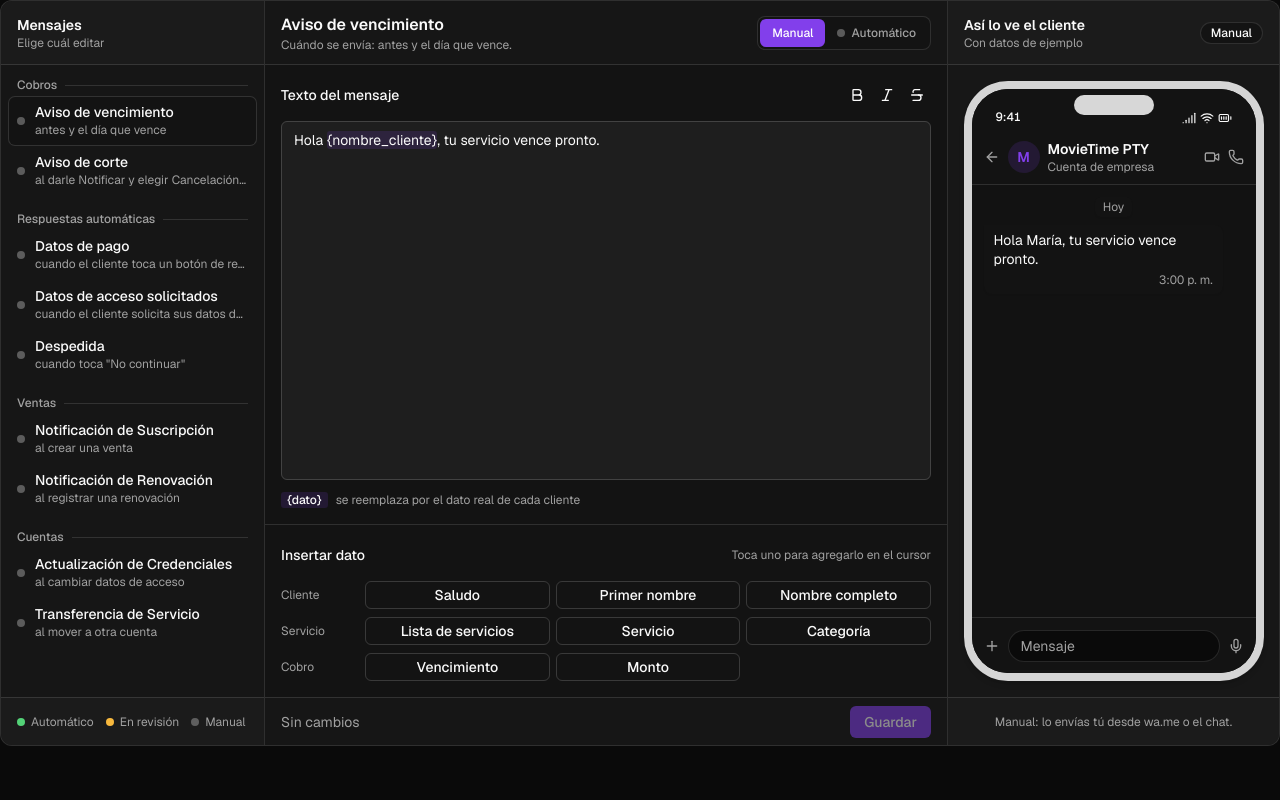
it: TemplateEditor › requires a data choice for a single variable and clears the link when removed
Click the button "Automático". click: (877, 32)
box: [826,18,928,46]
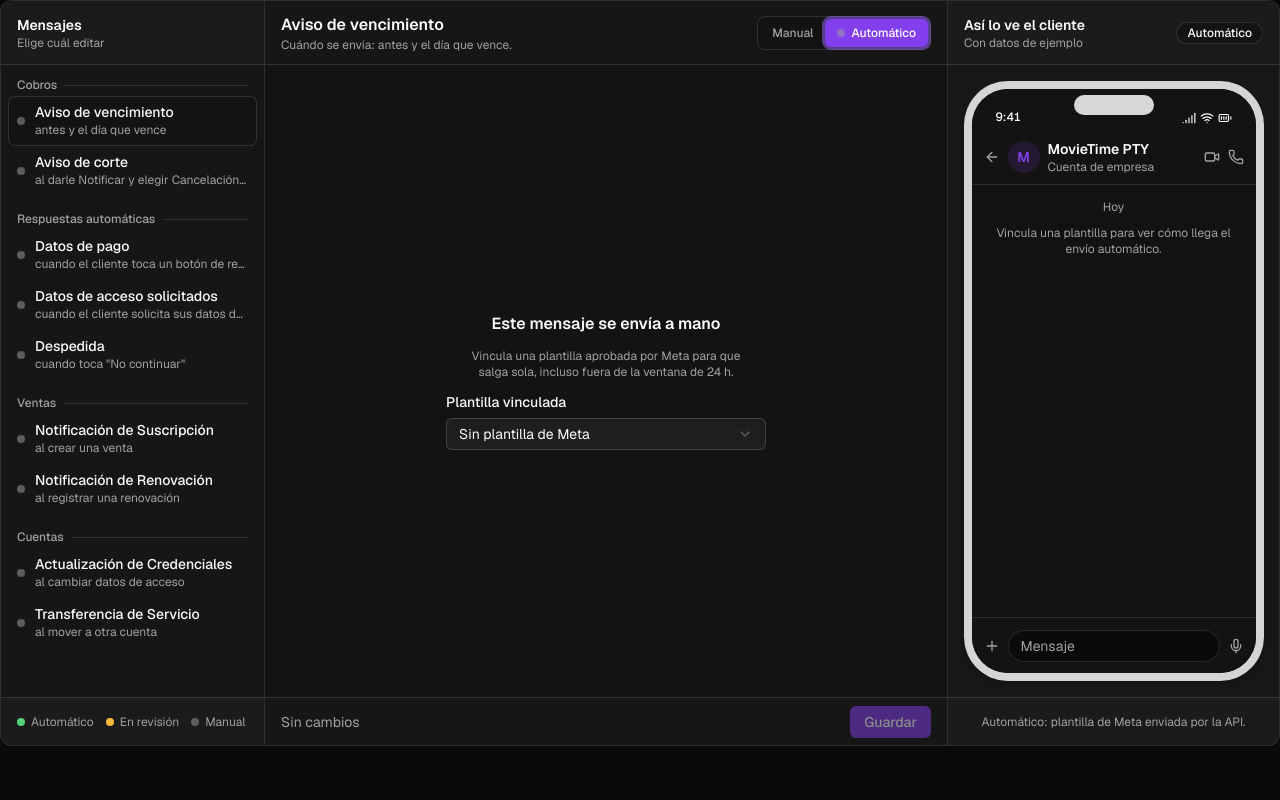
Click the dropdown named "Plantilla vinculada". click: (524, 434)
box: [446,418,766,450]
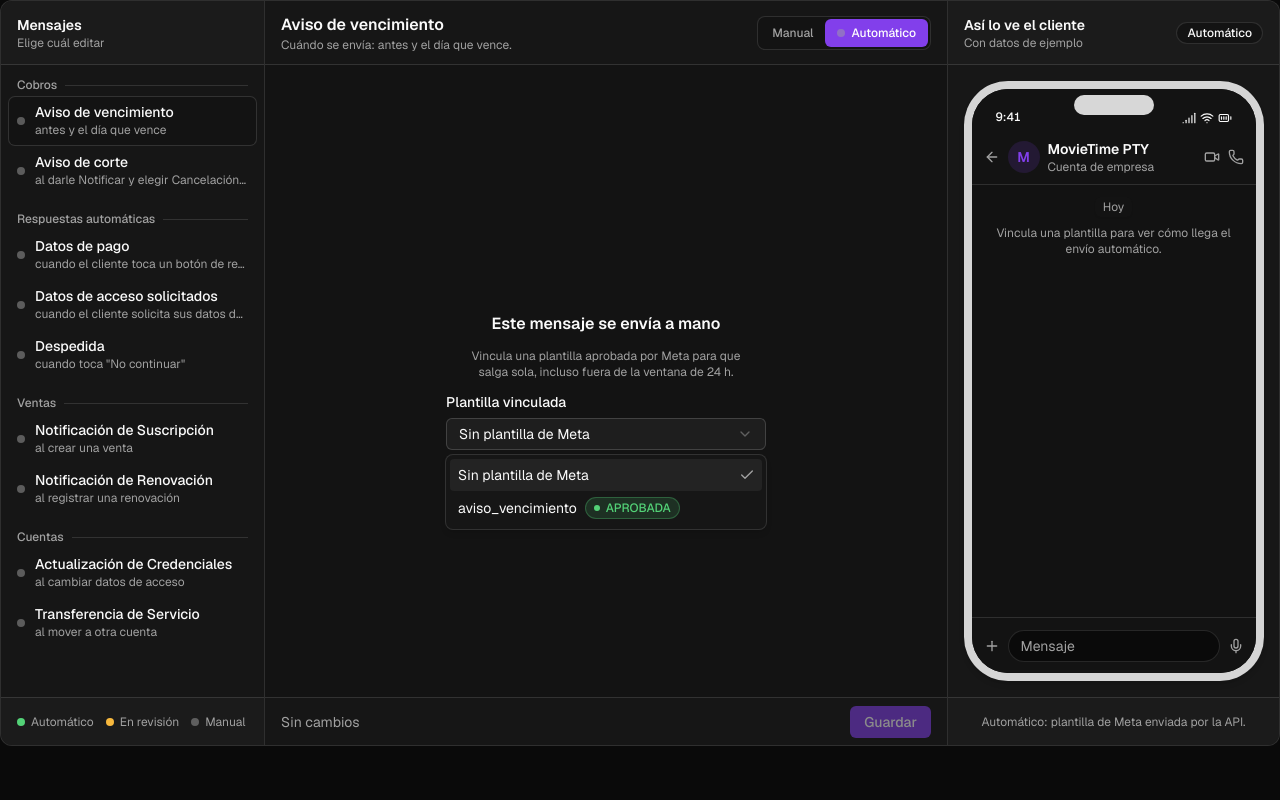
Click the option "aviso_vencimiento APROBADA". click: (569, 508)
box: [458,497,680,519]
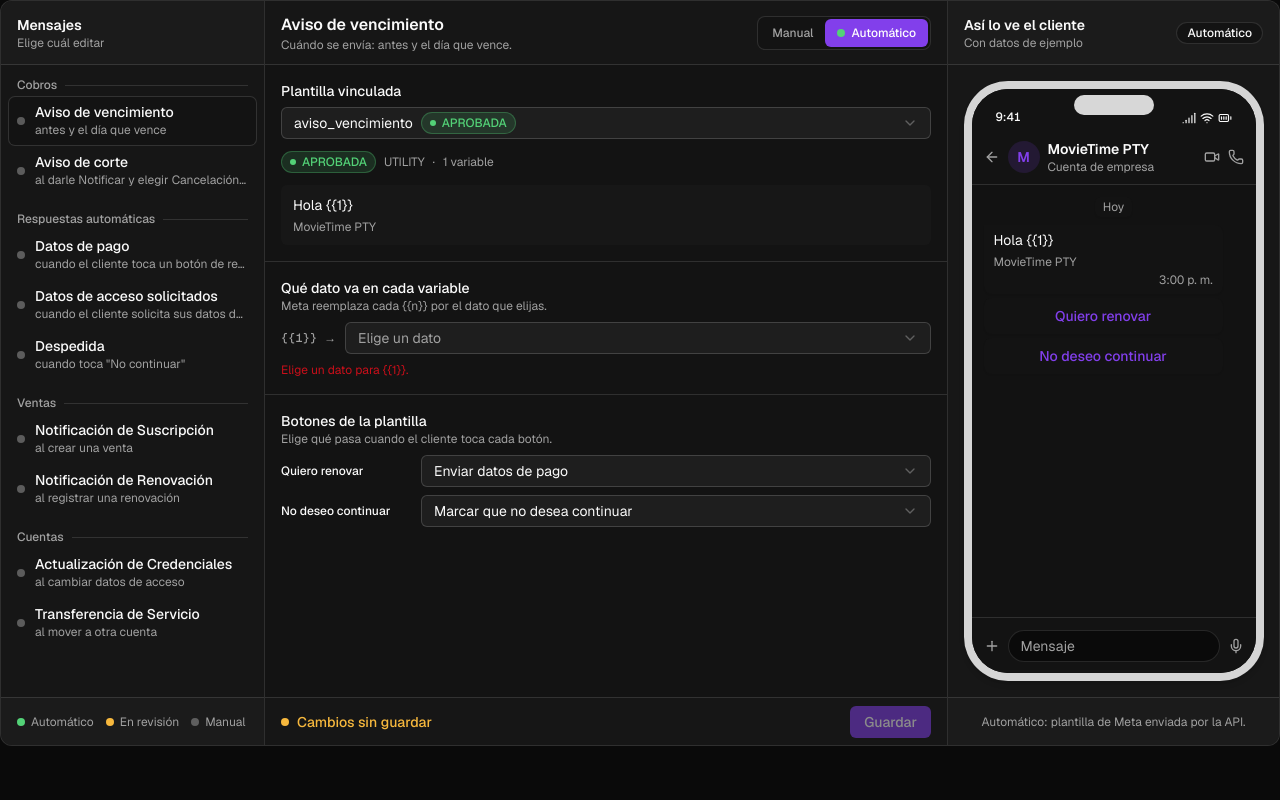
Expected: the button "Guardar" is disabled, [850,706,931,738]
Result: the message "Elige un dato para {{1}}." is shown at [281,362,408,378]
Click the dropdown named "Plantilla vinculada". click: (353, 123)
box: [281,107,931,139]
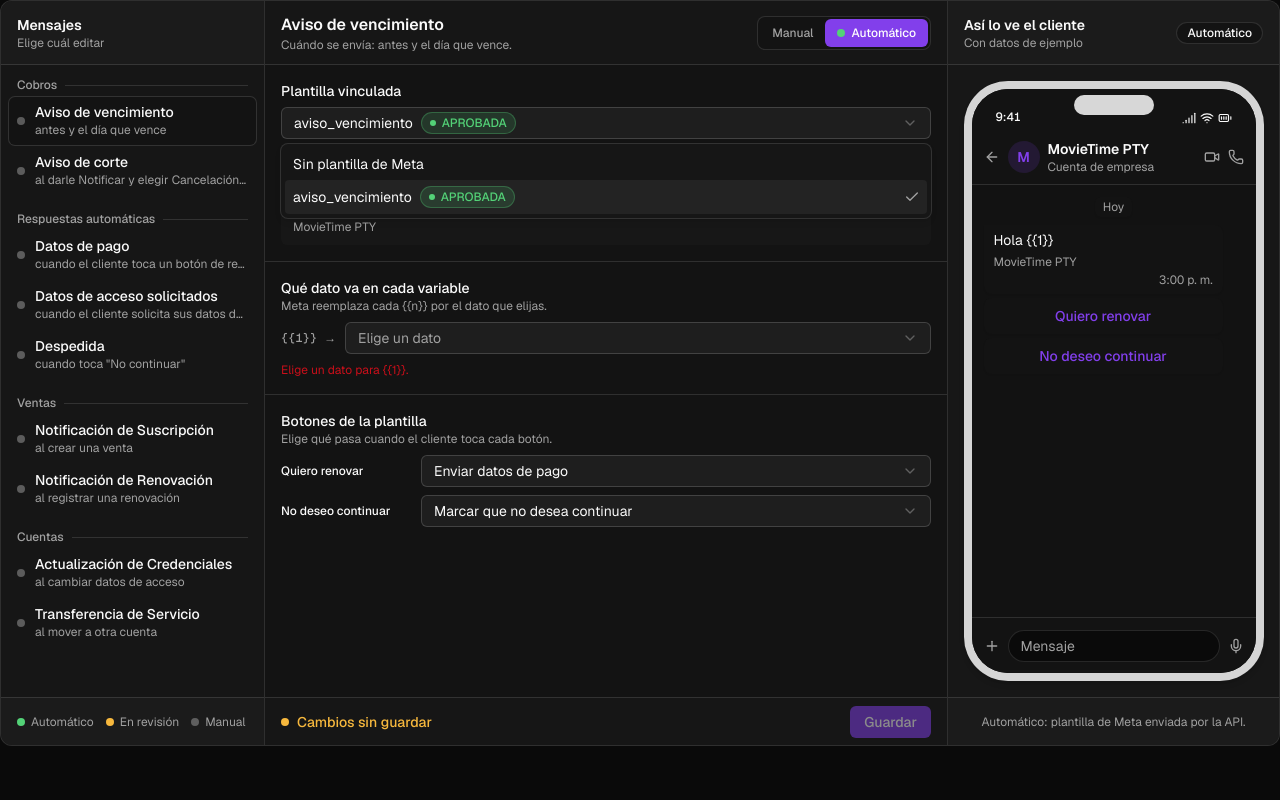
Click the option "Sin plantilla de Meta". click: (358, 164)
box: [293,155,424,173]
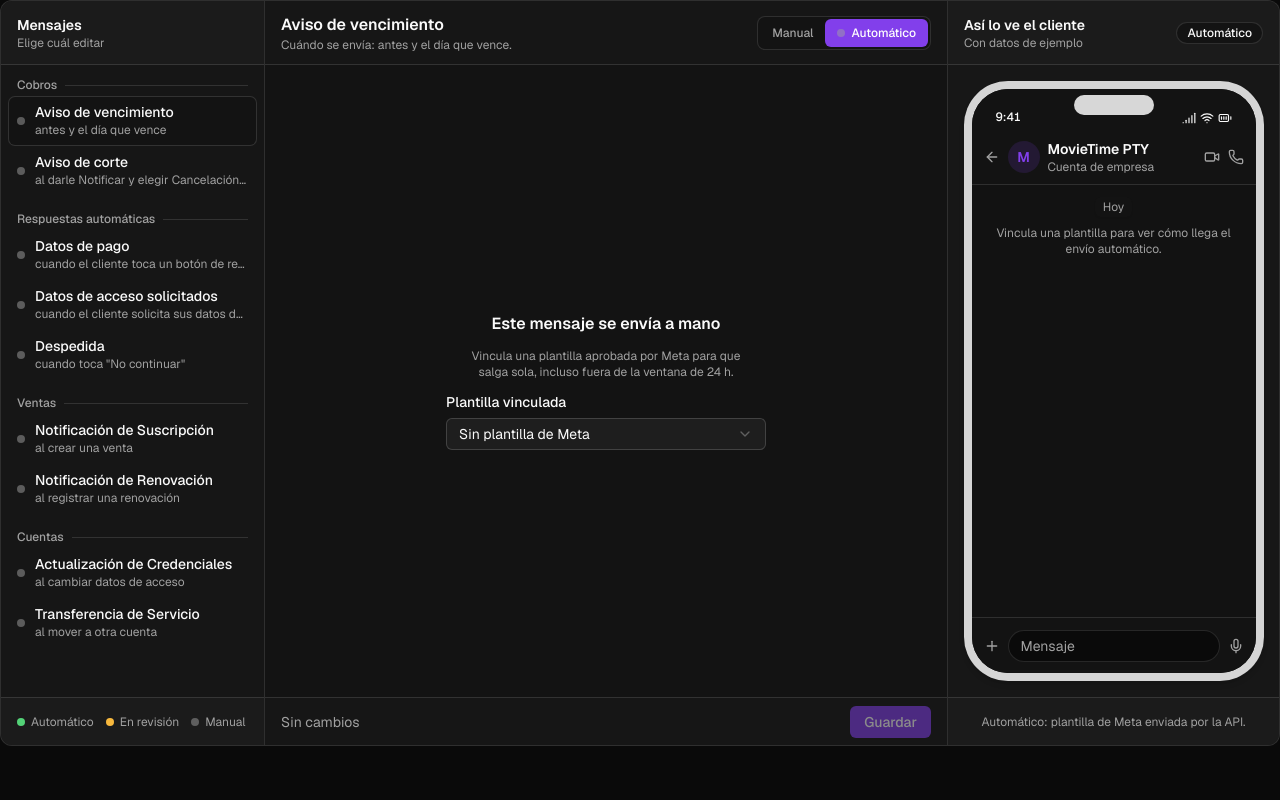
Result: the message "Elige un dato para {{1}}." is gone
